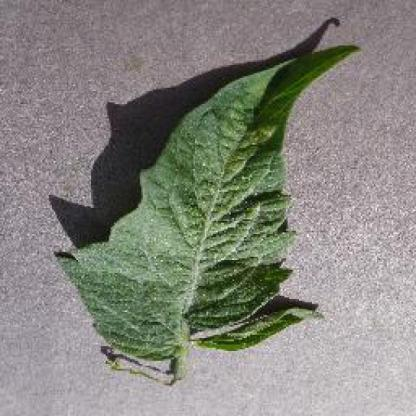Tomato_Spider_Mites: (58, 45, 363, 360)
